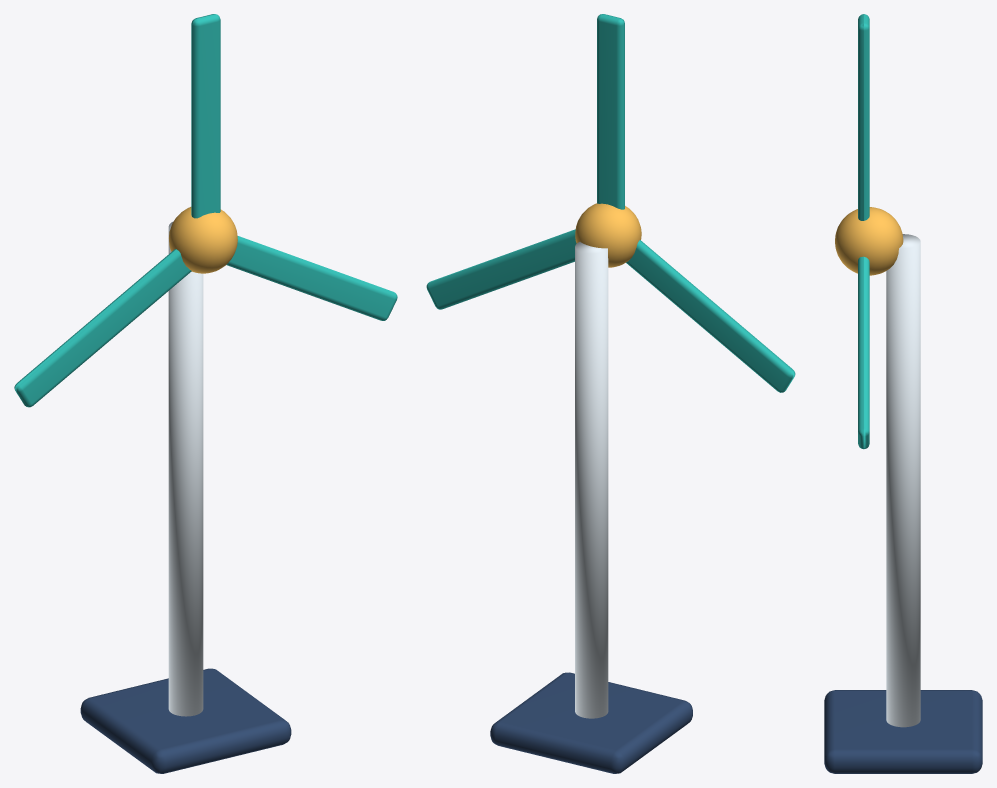
The model's file is wind-turbine-quality.glb.
3 renders of one model, left to right at view 1: azimuth 30°, elevation 25°; view 2: azimuth 150°, elevation 25°; view 3: azimuth 270°, elevation 25°, orthographic. The views are drawn at different scales.
Visible parts, largest first — view 1: Mast; view 2: Mast; view 3: Mast.
Boxes of the visible parts, <box> form: Mast: <box>14,14,397,773</box>; Mast: <box>426,14,795,773</box>; Mast: <box>824,14,982,773</box>.
Bounding box in the file's own units: 1.65 × 3.03 × 0.6.
